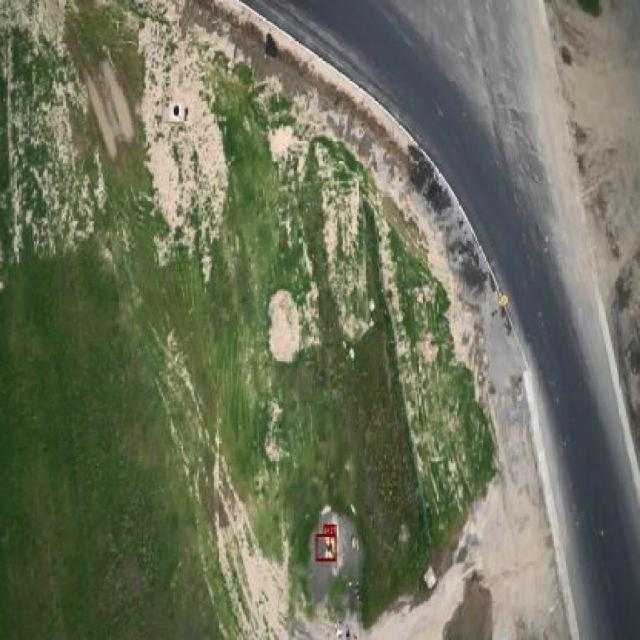fire: (317, 533, 337, 561)
